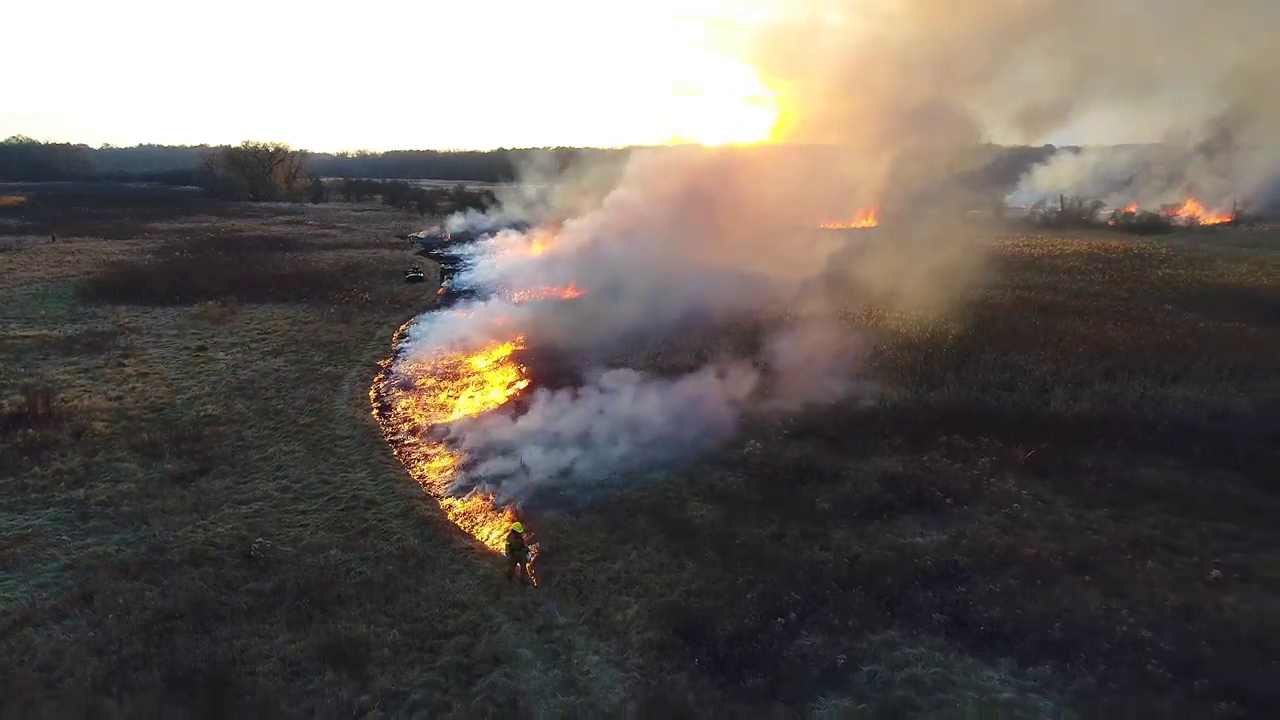forest_fire: (370, 315, 529, 551), (498, 281, 584, 304), (1160, 199, 1237, 224), (820, 208, 879, 228), (518, 236, 548, 256)
